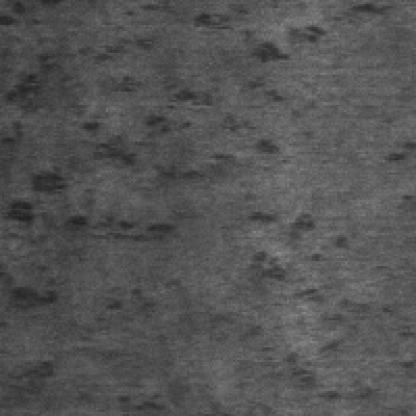rolled-in_scale: (0, 60, 231, 250), (189, 0, 387, 158), (237, 196, 372, 408)
